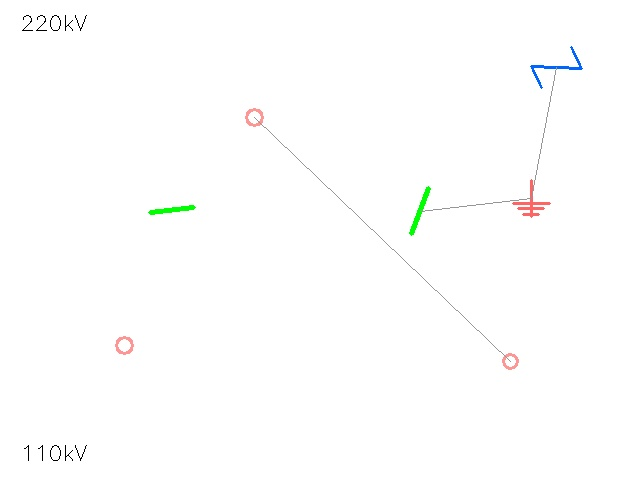busbar: (390, 181, 450, 241), (145, 183, 199, 237)
circuit_breaker: (532, 43, 580, 91)
feeder_terminal: (237, 100, 271, 134)
ground: (513, 180, 549, 216)
reactor: (107, 328, 141, 362)
surge_arrester: (495, 346, 525, 376)
